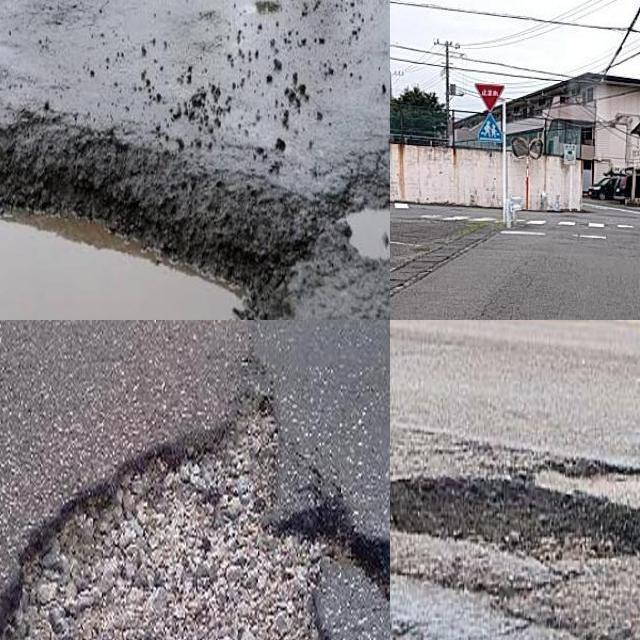Lubang: (0, 404, 390, 640), (0, 135, 288, 320), (390, 467, 640, 567), (336, 197, 390, 261)
